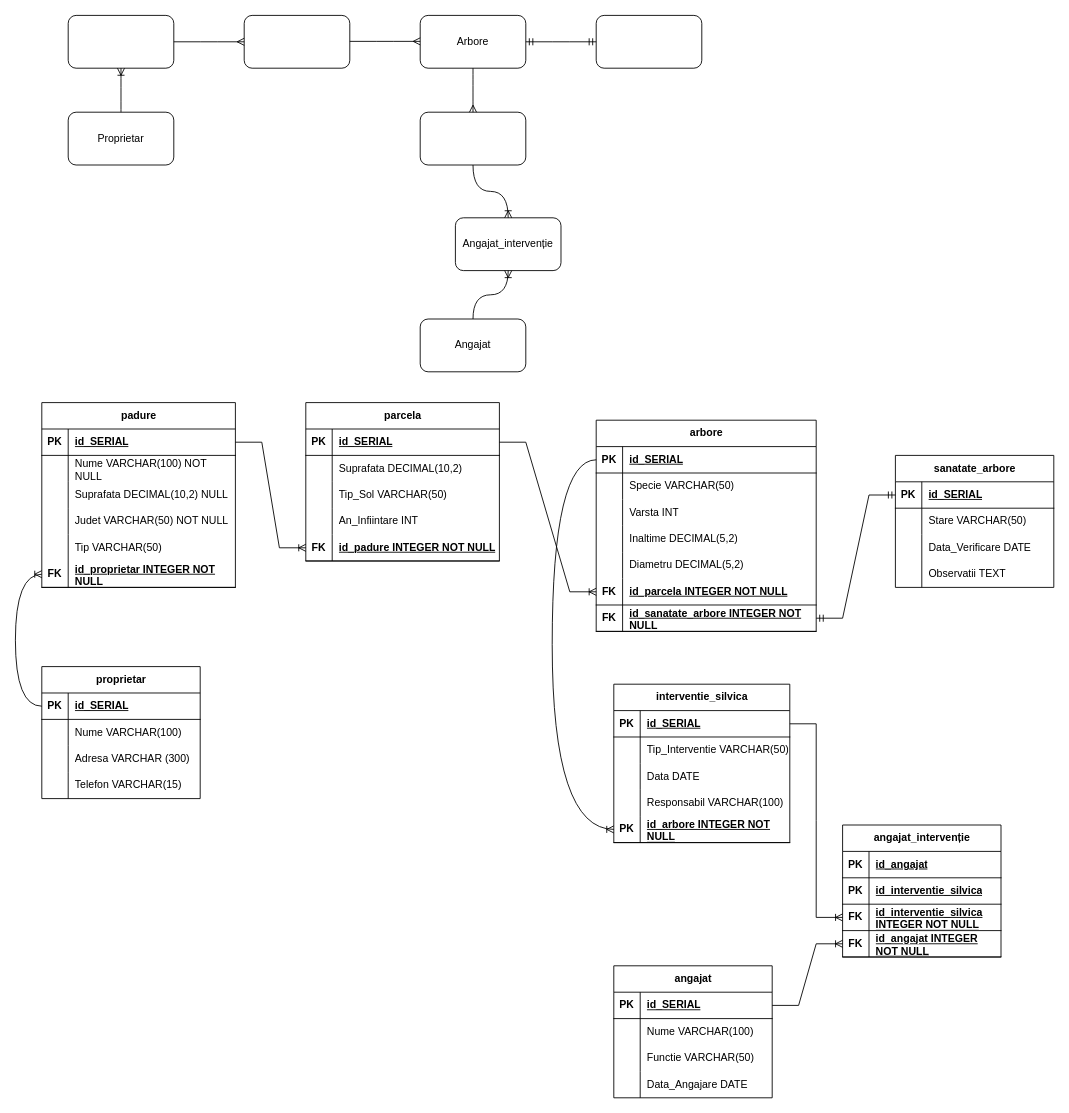
The diagram is 1069 pixels wide and 1113 high, and some of its shapes have lost their labels. The shapes that lost their labels are listed below. From the top down, each one's centre as x and y in pixels, then its label:
At (x=120, y=41): "Pădure".
At (x=296, y=41): "Parcelă".
At (x=648, y=41): "Sănătate_arbore".
At (x=472, y=138): "Intervenție_silvică".
